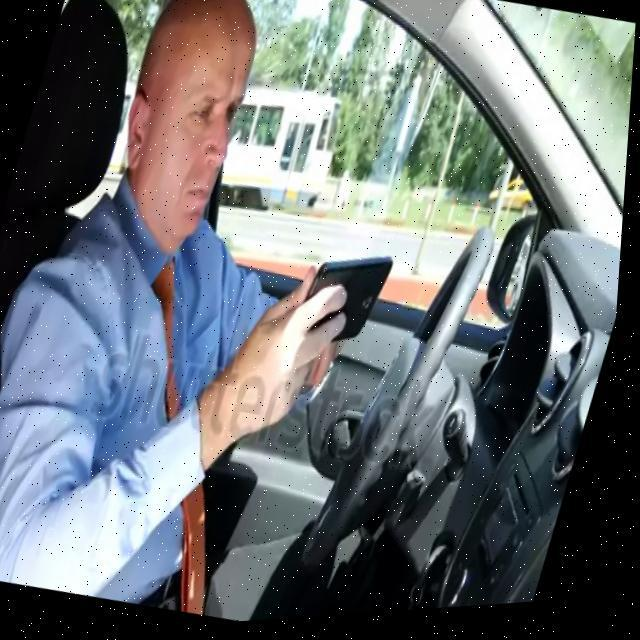PhoneCall: (297, 246, 399, 356)
